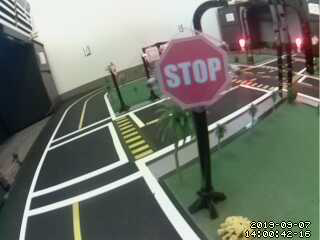Stop_Sign: (150, 34, 234, 106)
